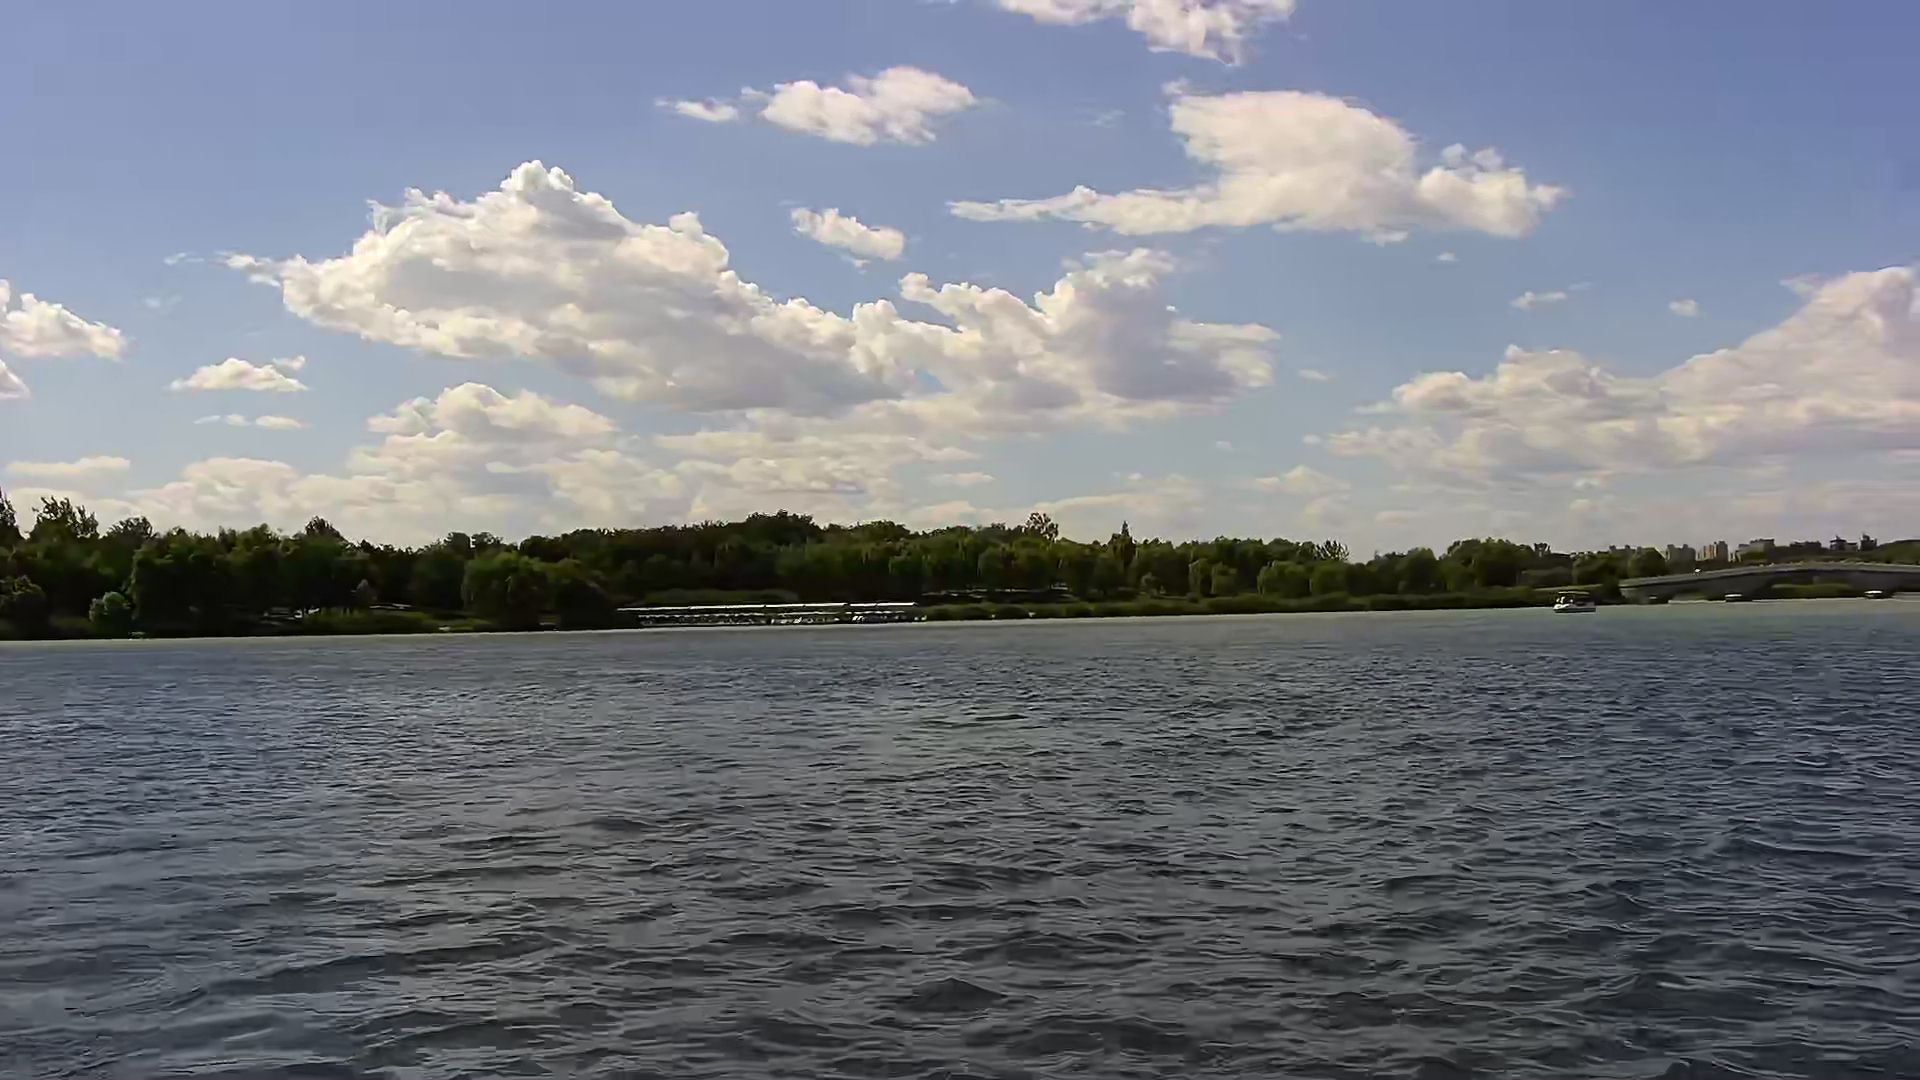boat: (1548, 591, 1600, 613)
bridge: (1619, 563, 1920, 603), (618, 603, 918, 621)
